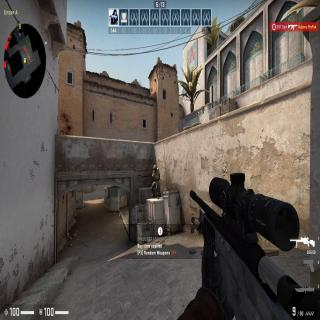CT-Body: (150, 163, 161, 194)
CT-Head: (153, 164, 157, 170)
